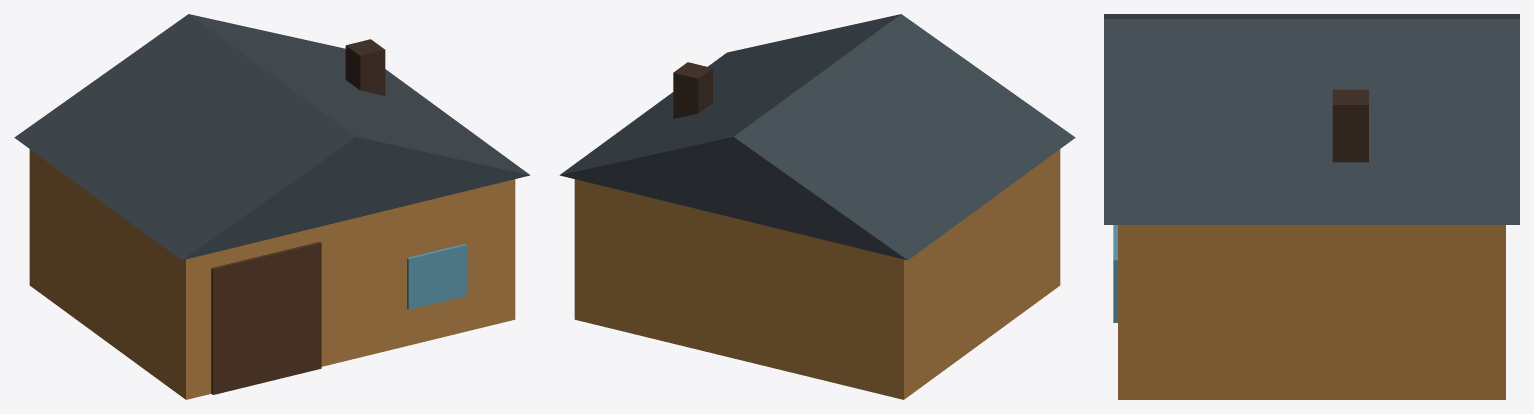
Rendered from workshop.obj.
3 renders of one model, left to right at view 1: azimuth 30°, elevation 25°; view 2: azimuth 150°, elevation 25°; view 3: azimuth 270°, elevation 25°, orthographic. The views are drawn at different scales.
Parts seen in each view (by area): view 1: Cube; view 2: Cube; view 3: Cube.
Boxes of the visible parts, <box> form: Cube: <box>14,14,530,399</box>; Cube: <box>559,14,1075,399</box>; Cube: <box>1104,14,1519,399</box>.
Bounding box in the file's own units: 9 × 5.6 × 7.5.
